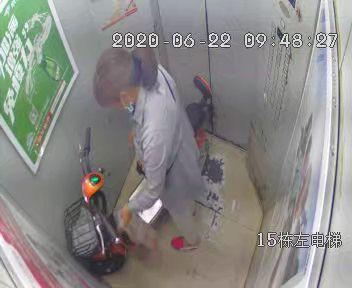Electric-bicycle: (64, 75, 212, 258)
